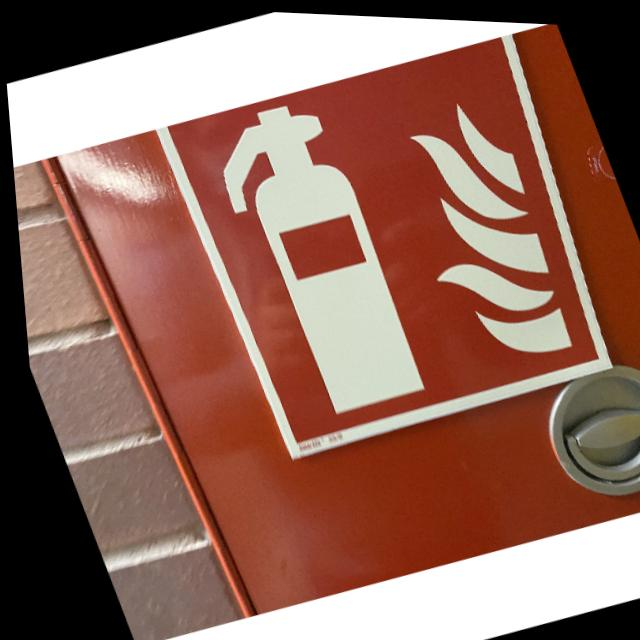fire extinguisher: (145, 17, 640, 473)
